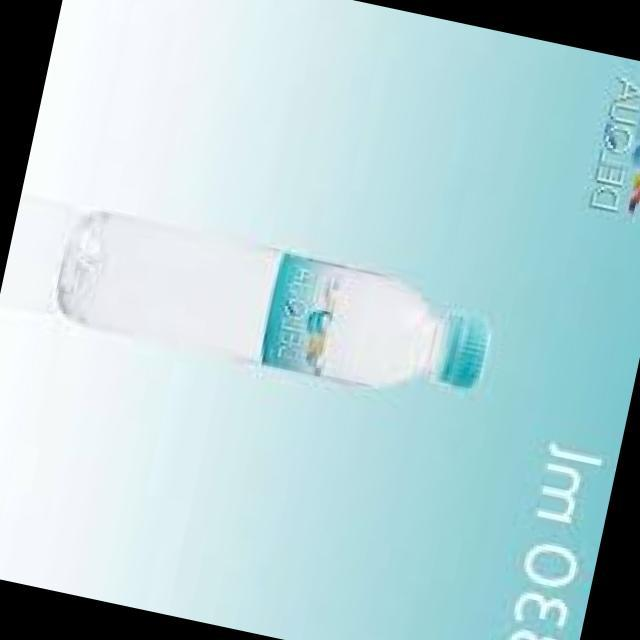good: (31, 164, 512, 443)
